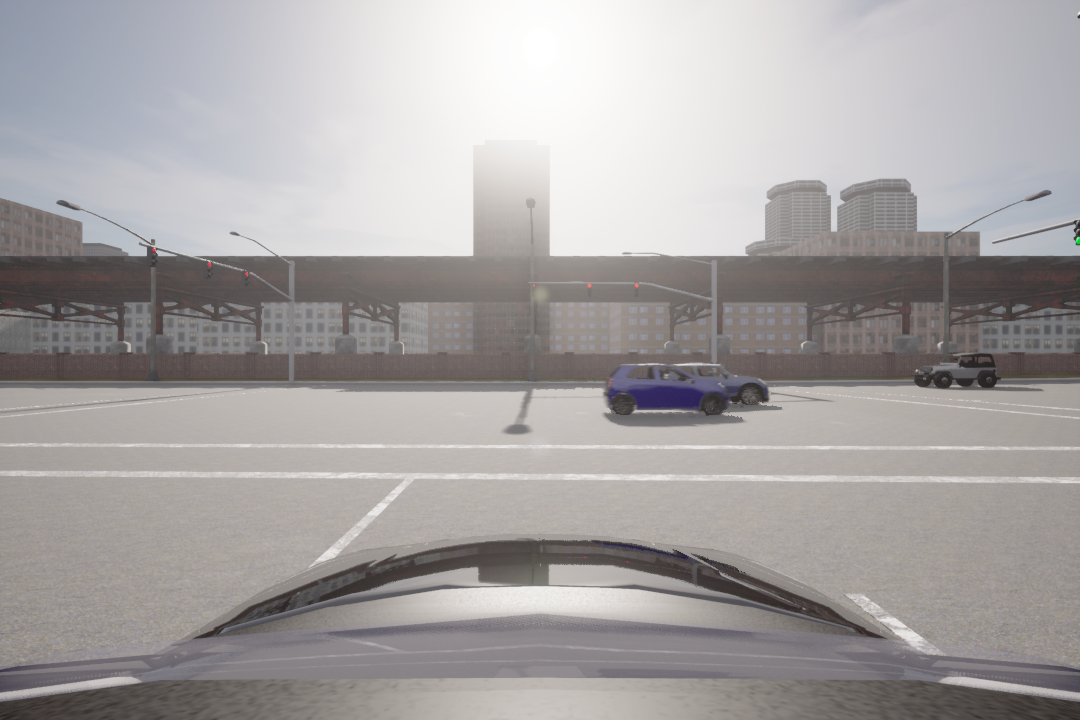TrafficLight: (144, 246, 159, 268), (1071, 218, 1080, 249), (584, 280, 594, 303), (239, 270, 251, 289), (203, 257, 211, 281), (633, 280, 640, 299)
